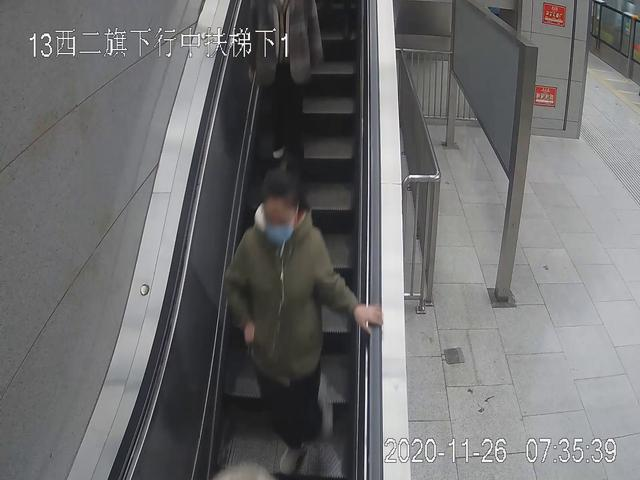person: (223, 173, 384, 479), (246, 1, 327, 182)
